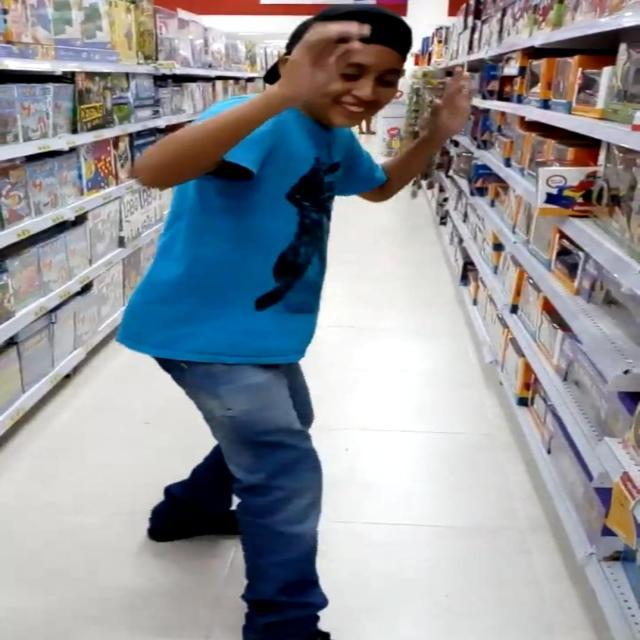em_pe: (117, 3, 472, 640)
